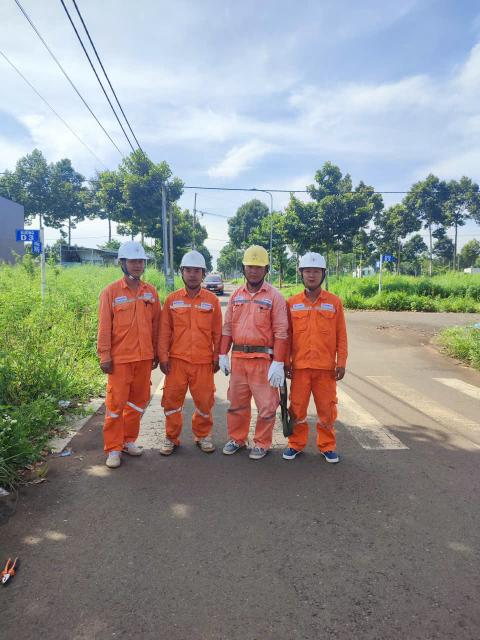gloves: (258, 359, 283, 391), (216, 351, 233, 381)
harness: (221, 335, 283, 360)
helmet: (109, 233, 154, 267), (236, 246, 274, 271), (172, 251, 215, 273), (301, 253, 332, 273)
shoes: (151, 431, 178, 456), (316, 446, 341, 468), (222, 433, 243, 456), (119, 437, 144, 456), (248, 441, 269, 463), (100, 449, 123, 468), (196, 433, 219, 452), (281, 441, 300, 464)
